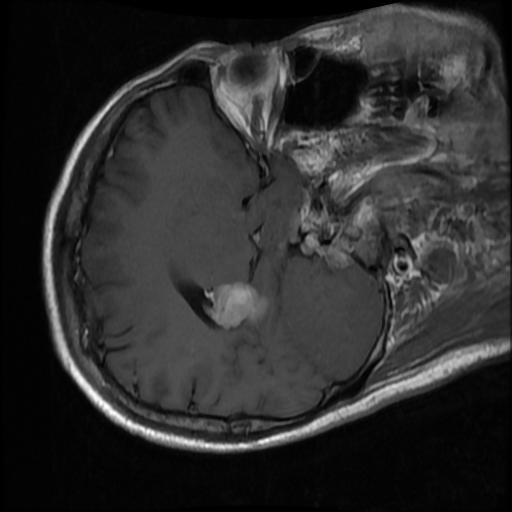meningioma: (204, 282, 265, 331)
